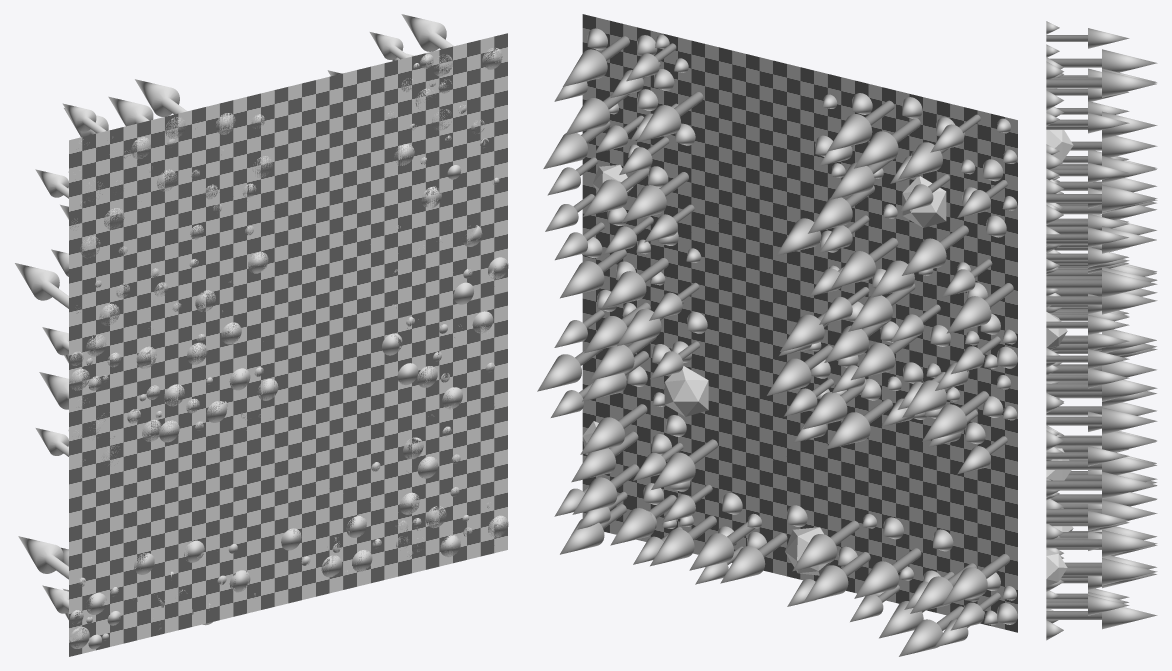
The model's file is forest22.dae.
3 renders of one model, left to right at view 1: azimuth 30°, elevation 25°; view 2: azimuth 150°, elevation 25°; view 3: azimuth 270°, elevation 25°, orthographic. The views are drawn at different scales.
Parts seen in each view (by area): view 1: Plane.005, Plane.004, Cone.1351, Cone.1679, Cone.1695, Cone.1723, Cone.1663; view 2: Plane.005, Plane.004, Icosphere.036, Cone.1658, Cone.1663, Cone.1353, Cone.1406, Cone.1711, Cone.1631, Cone.1648, Cone.1679, Cone.1361 (+66 smaller); view 3: Cone.1710, Cone.1723, Cone.1708, Cone.1689, Cone.1398, Cone.1695, Cone.1652, Cone.1696, Cone.1684, Cone.1353, Cone.1388, Cone.1438 (+65 smaller).
Boxes of the visible parts, bbox=[...] form: Plane.005: bbox=[69, 33, 507, 398]; Plane.004: bbox=[69, 291, 507, 656]; Cone.1351: bbox=[18, 536, 85, 586]; Cone.1679: bbox=[15, 263, 78, 313]; Cone.1695: bbox=[401, 14, 453, 51]; Cone.1723: bbox=[135, 79, 186, 116]; Cone.1663: bbox=[108, 96, 175, 147]; Plane.005: bbox=[582, 14, 1017, 376]; Plane.004: bbox=[582, 275, 1017, 632]; Icosphere.036: bbox=[664, 366, 708, 416]; Cone.1658: bbox=[902, 225, 968, 275]; Cone.1663: bbox=[854, 118, 920, 168]; Cone.1353: bbox=[572, 464, 639, 514]; Cone.1406: bbox=[720, 533, 787, 583]; Cone.1711: bbox=[651, 439, 717, 489]; Cone.1631: bbox=[636, 92, 703, 142]; Cone.1648: bbox=[601, 258, 668, 308]; Cone.1679: bbox=[946, 283, 1013, 333]; Cone.1361: bbox=[792, 520, 859, 571]; Cone.1710: bbox=[1046, 471, 1156, 499]; Cone.1723: bbox=[1046, 70, 1156, 97]; Cone.1708: bbox=[1046, 530, 1157, 557]; Cone.1689: bbox=[1046, 270, 1157, 297]; Cone.1398: bbox=[1046, 407, 1157, 434]; Cone.1695: bbox=[1046, 184, 1157, 212]; Cone.1652: bbox=[1046, 292, 1157, 314]; Cone.1696: bbox=[1046, 379, 1157, 401]; Cone.1684: bbox=[1049, 49, 1157, 72]; Cone.1353: bbox=[1062, 558, 1157, 585]; Cone.1388: bbox=[1046, 607, 1157, 629]; Cone.1438: bbox=[1055, 431, 1156, 452].
Bounding box in the file's own units: 64.84 × 16 × 73.28.
1 material, 1 textured.
